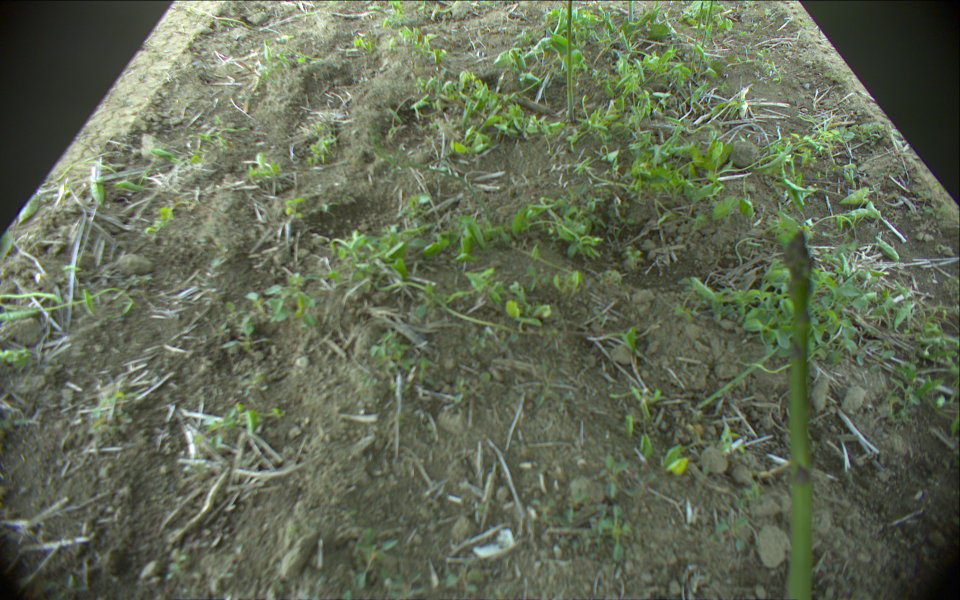aspa: (786, 229, 818, 600), (697, 1, 714, 79), (565, 1, 575, 126), (689, 1, 705, 72), (625, 1, 635, 23)
